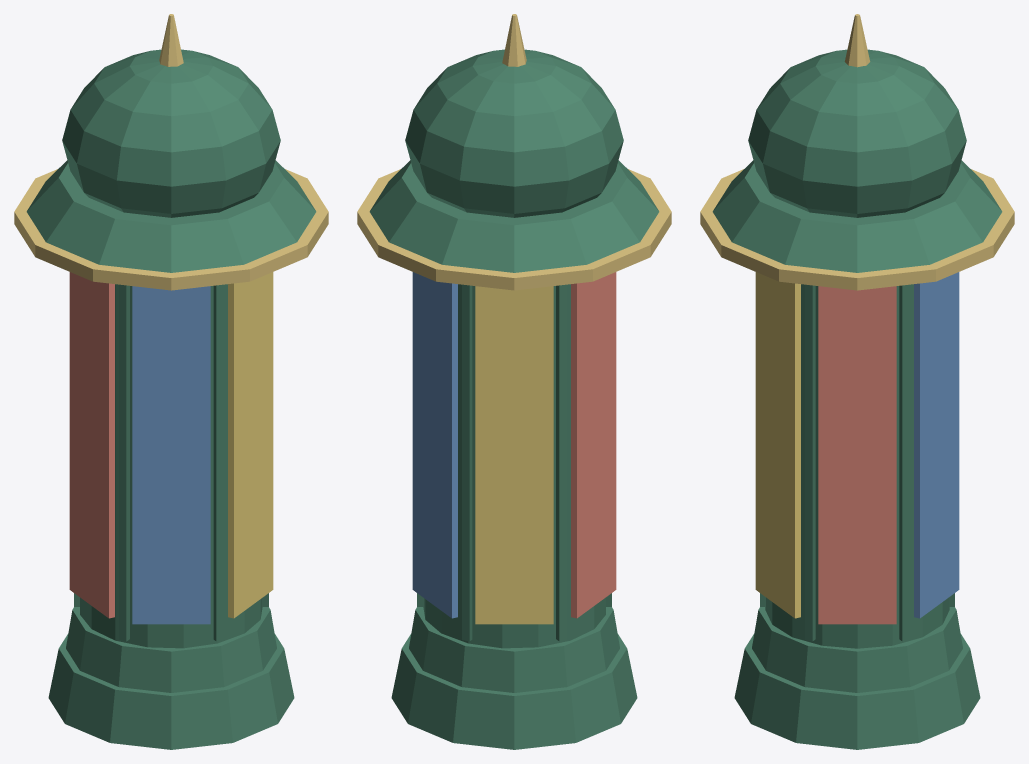
File: Paris_MorrisColumn.fbx
The picture shows the model from 3 angles, left to right: view 1: azimuth 30°, elevation 25°; view 2: azimuth 150°, elevation 25°; view 3: azimuth 270°, elevation 25°; orthographic projection.
Visible parts, largest first — view 1: Paris_MorrisColumn; view 2: Paris_MorrisColumn; view 3: Paris_MorrisColumn.
Part boxes in pixels (x1,y1,x2,y2): Paris_MorrisColumn: [14, 14, 328, 749]; Paris_MorrisColumn: [357, 14, 671, 749]; Paris_MorrisColumn: [700, 14, 1014, 749].
Bounding box in the file's own units: 1.84 × 4.41 × 1.84.
